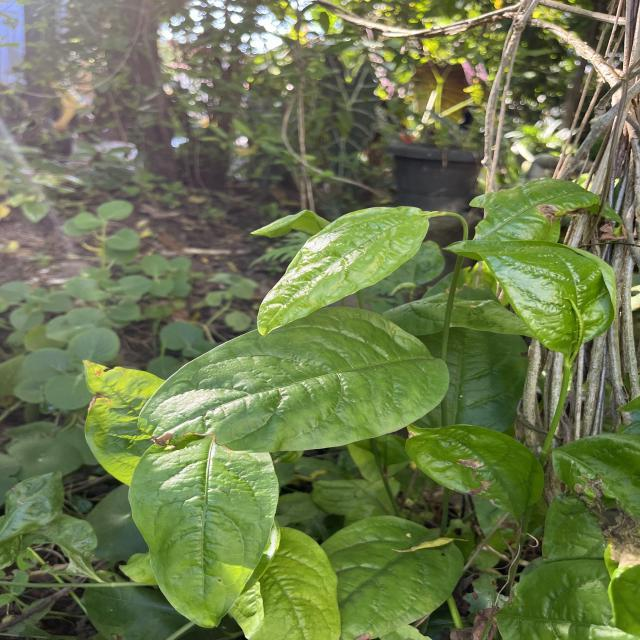Plumbago indica: (130, 304, 447, 458), (120, 438, 290, 636), (248, 205, 441, 338), (433, 235, 631, 355)
